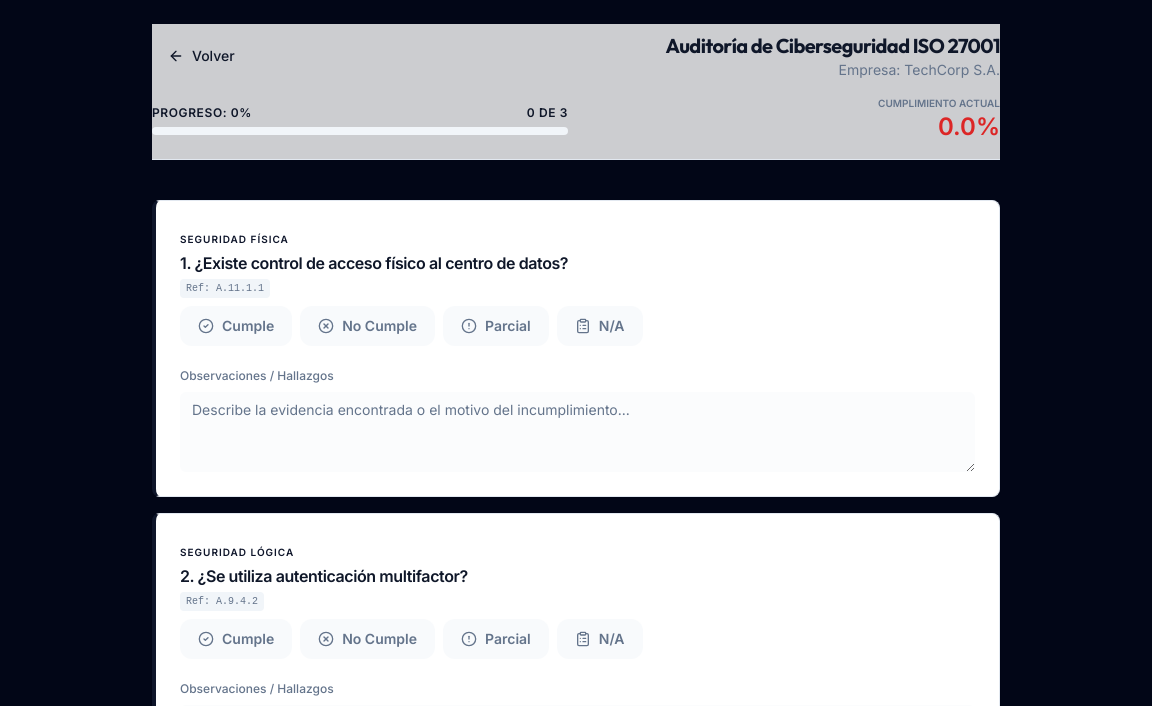
it: AuditExecutionPage › New audit flow › should update response when clicking a response button
Click "Cumple" on the first item
Click the button "Cumple" below "A.11.1.1": (236, 326) [180,306,292,346]
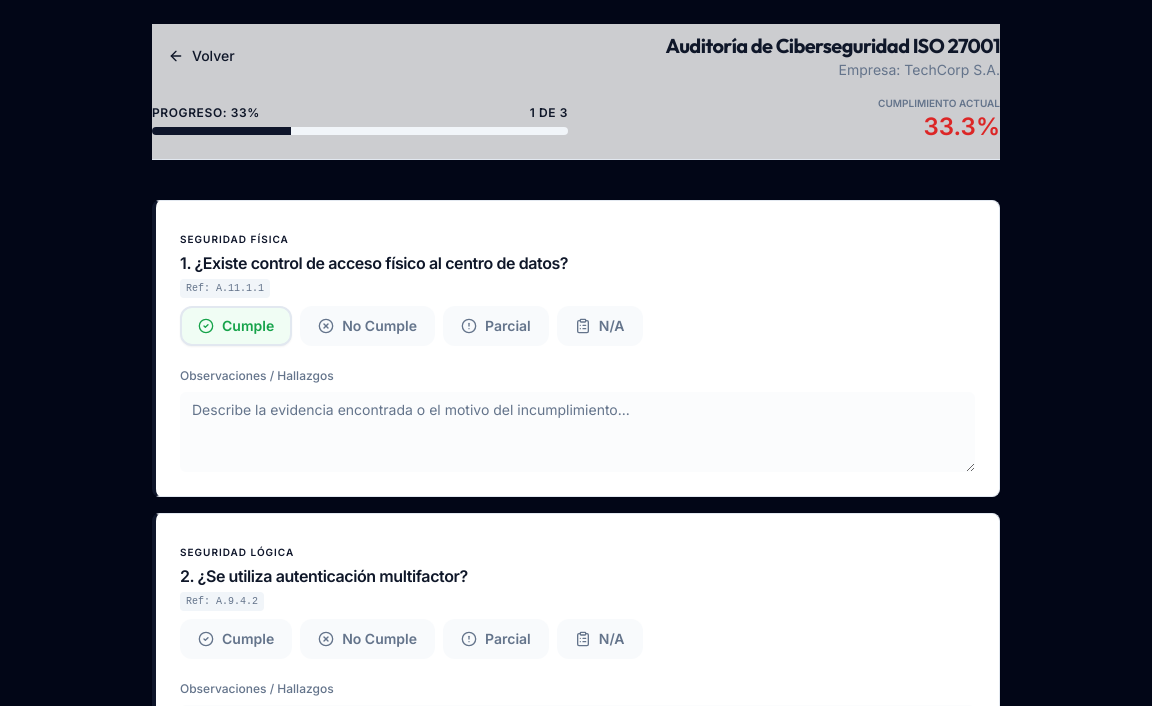
Expected: the text "33.3%" is shown, [924,112,1000,141]
